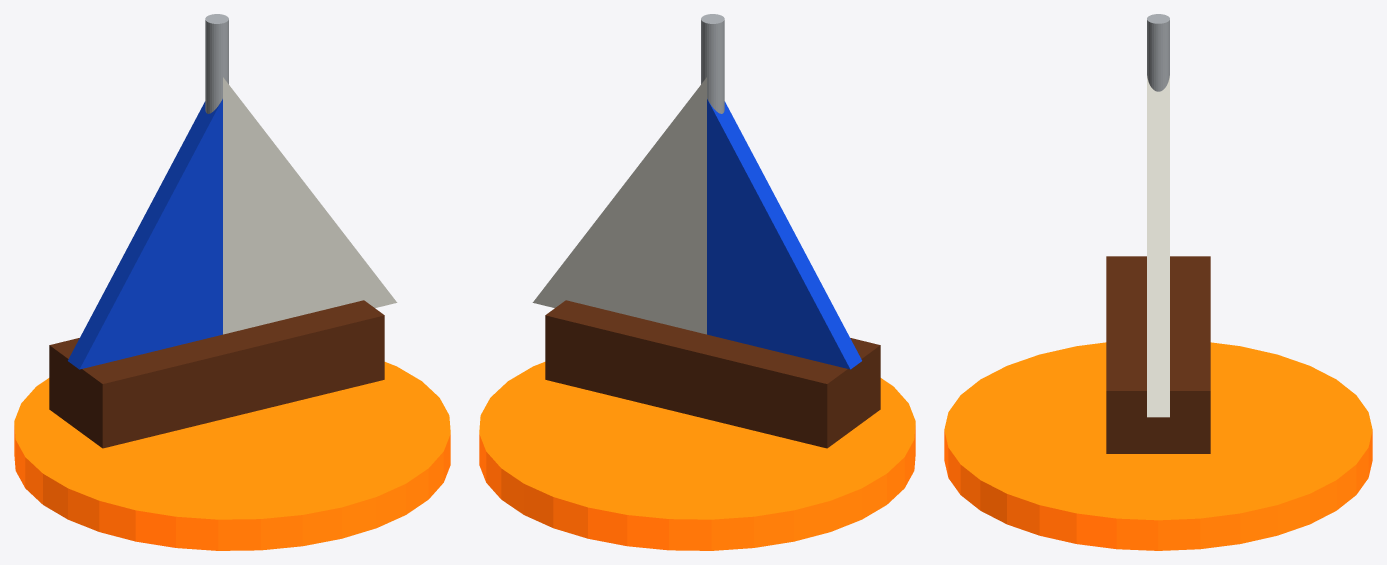
Rendered from spanish_sailboat.dae.
The picture shows the model from 3 angles, left to right: view 1: azimuth 30°, elevation 25°; view 2: azimuth 150°, elevation 25°; view 3: azimuth 270°, elevation 25°; orthographic projection. The views are drawn at different scales.
Parts seen in each view (by area): view 1: 11_20_Popular_Spanish_Sailboat_ROOT_base, 11_20_Popular_Spanish_Sailboat_part_01, 11_20_Popular_Spanish_Sailboat_part_03, 11_20_Popular_Spanish_Sailboat_part_04, 11_20_Popular_Spanish_Sailboat_part_02; view 2: 11_20_Popular_Spanish_Sailboat_ROOT_base, 11_20_Popular_Spanish_Sailboat_part_01, 11_20_Popular_Spanish_Sailboat_part_03, 11_20_Popular_Spanish_Sailboat_part_04, 11_20_Popular_Spanish_Sailboat_part_02; view 3: 11_20_Popular_Spanish_Sailboat_ROOT_base, 11_20_Popular_Spanish_Sailboat_part_01, 11_20_Popular_Spanish_Sailboat_part_03, 11_20_Popular_Spanish_Sailboat_part_02.
Boxes of the visible parts, left/top/right/bottom form: 11_20_Popular_Spanish_Sailboat_ROOT_base: left=14, top=362, right=450, bottom=550; 11_20_Popular_Spanish_Sailboat_part_01: left=49, top=300, right=384, bottom=448; 11_20_Popular_Spanish_Sailboat_part_03: left=223, top=77, right=397, bottom=334; 11_20_Popular_Spanish_Sailboat_part_04: left=68, top=99, right=222, bottom=369; 11_20_Popular_Spanish_Sailboat_part_02: left=205, top=14, right=228, bottom=113; 11_20_Popular_Spanish_Sailboat_ROOT_base: left=479, top=362, right=915, bottom=550; 11_20_Popular_Spanish_Sailboat_part_01: left=545, top=300, right=880, bottom=448; 11_20_Popular_Spanish_Sailboat_part_03: left=532, top=77, right=706, bottom=334; 11_20_Popular_Spanish_Sailboat_part_04: left=707, top=99, right=861, bottom=369; 11_20_Popular_Spanish_Sailboat_part_02: left=701, top=14, right=724, bottom=113; 11_20_Popular_Spanish_Sailboat_ROOT_base: left=944, top=342, right=1372, bottom=550; 11_20_Popular_Spanish_Sailboat_part_01: left=1106, top=256, right=1210, bottom=453; 11_20_Popular_Spanish_Sailboat_part_03: left=1147, top=76, right=1169, bottom=417; 11_20_Popular_Spanish_Sailboat_part_02: left=1147, top=14, right=1169, bottom=91.
Size of the model in its own units: 0.76 by 0.85 by 0.76.
